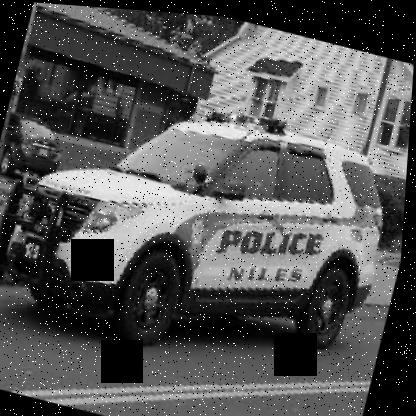emergency: (0, 54, 412, 395)
